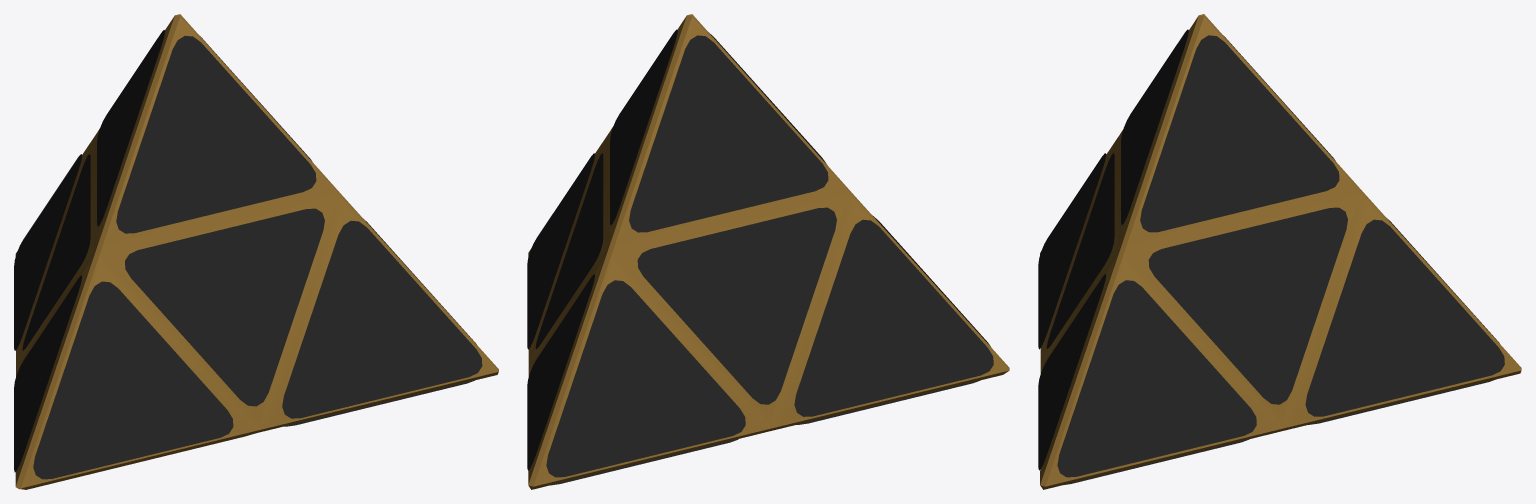
Rendered from piramide antisemita del porcodiddiV2.fbx.
3 renders of one model, left to right at view 1: azimuth 30°, elevation 25°; view 2: azimuth 150°, elevation 25°; view 3: azimuth 270°, elevation 25°, orthographic.
Parts seen in each view (by area): view 1: piramide antisemita del porcodiddi.001; view 2: piramide antisemita del porcodiddi.001; view 3: piramide antisemita del porcodiddi.001.
Boxes of the visible parts, x1,y1,x2,y2 form: piramide antisemita del porcodiddi.001: (14, 14, 498, 489); piramide antisemita del porcodiddi.001: (527, 14, 1009, 489); piramide antisemita del porcodiddi.001: (1038, 14, 1521, 489).
Bounding box in the file's own units: 170 × 122 × 148.
